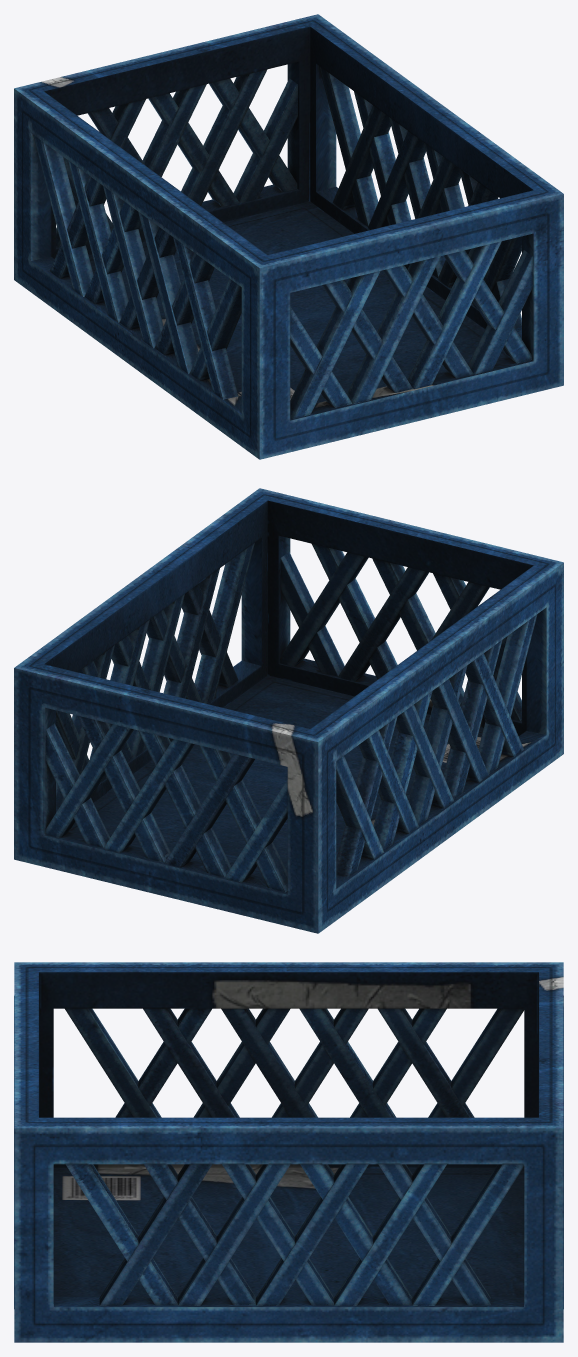
Rendered from crate.glb.
The picture shows the model from 3 angles, top to bottom: view 1: azimuth 30°, elevation 25°; view 2: azimuth 150°, elevation 25°; view 3: azimuth 270°, elevation 25°; orthographic projection. The views are drawn at different scales.
Parts seen in each view (by area): view 1: Object_2; view 2: Object_2; view 3: Object_2.
Part boxes in pixels (box(x1,y1,x2,y2)): Object_2: box(14, 14, 563, 459); Object_2: box(14, 488, 563, 933); Object_2: box(14, 962, 563, 1342).
Size of the model in its own units: 19.81 by 11.91 by 27.69.
1 material, 1 textured.
